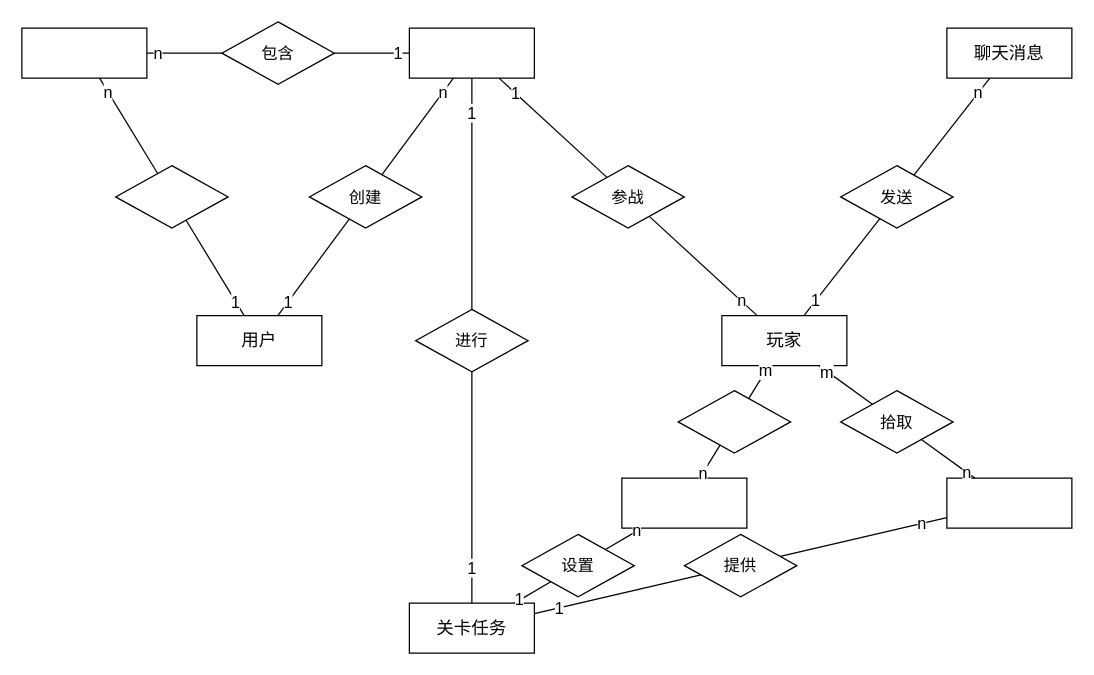
The diagram is 1094 pixels wide and 675 high, and some of its shapes have lost their labels. Here are the shapes that lost their labels. From the top down, the centre of each, then its label:
At (84,52): "房间成员".
At (471,52): "房间".
At (171,196): "加入".
At (734,421): "触发".
At (684,502): "机关".
At (1009,502): "道具".
